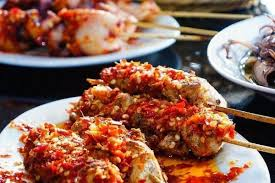sate: (19, 51, 241, 183)
